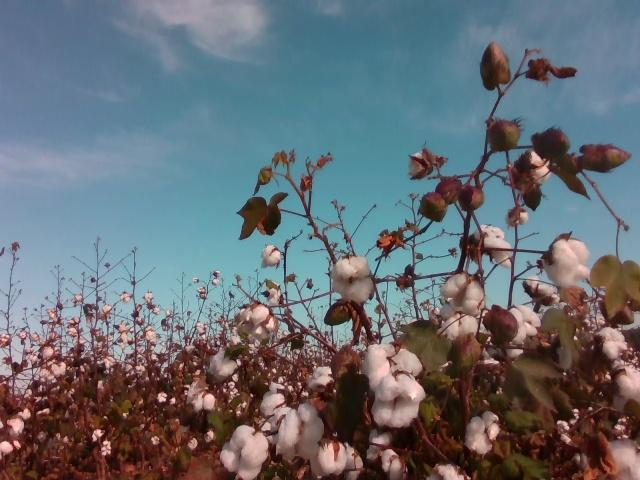cotton_ready: (371, 373, 428, 430), (277, 401, 326, 463), (362, 342, 425, 389), (219, 424, 270, 480), (544, 240, 594, 288), (310, 436, 364, 476), (365, 431, 408, 480), (440, 271, 486, 316), (331, 255, 374, 302), (258, 385, 291, 445), (236, 302, 280, 346), (475, 224, 515, 270), (606, 365, 640, 412), (467, 410, 501, 456), (514, 148, 550, 190), (607, 436, 640, 480), (436, 314, 488, 341), (508, 304, 542, 342), (208, 351, 244, 385), (594, 327, 627, 362), (523, 275, 560, 306), (187, 376, 217, 411), (424, 462, 472, 480), (407, 151, 434, 182), (307, 364, 335, 391), (261, 243, 282, 266), (505, 209, 529, 227), (265, 283, 283, 306)
